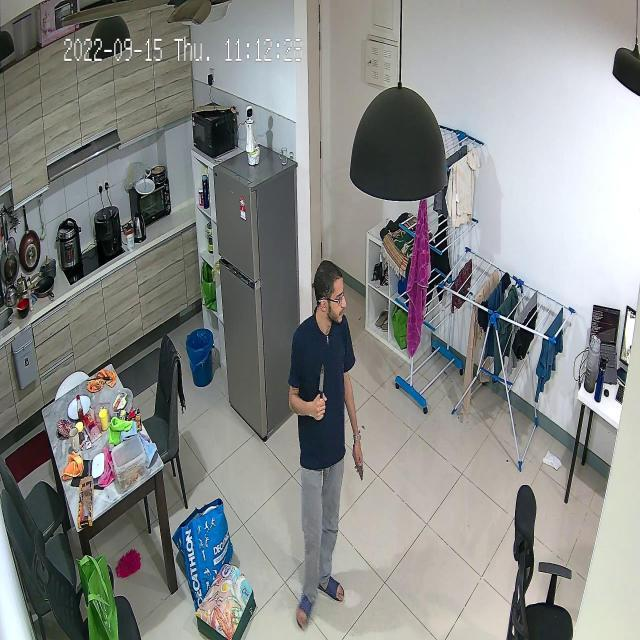Knife: (316, 358, 332, 403)
